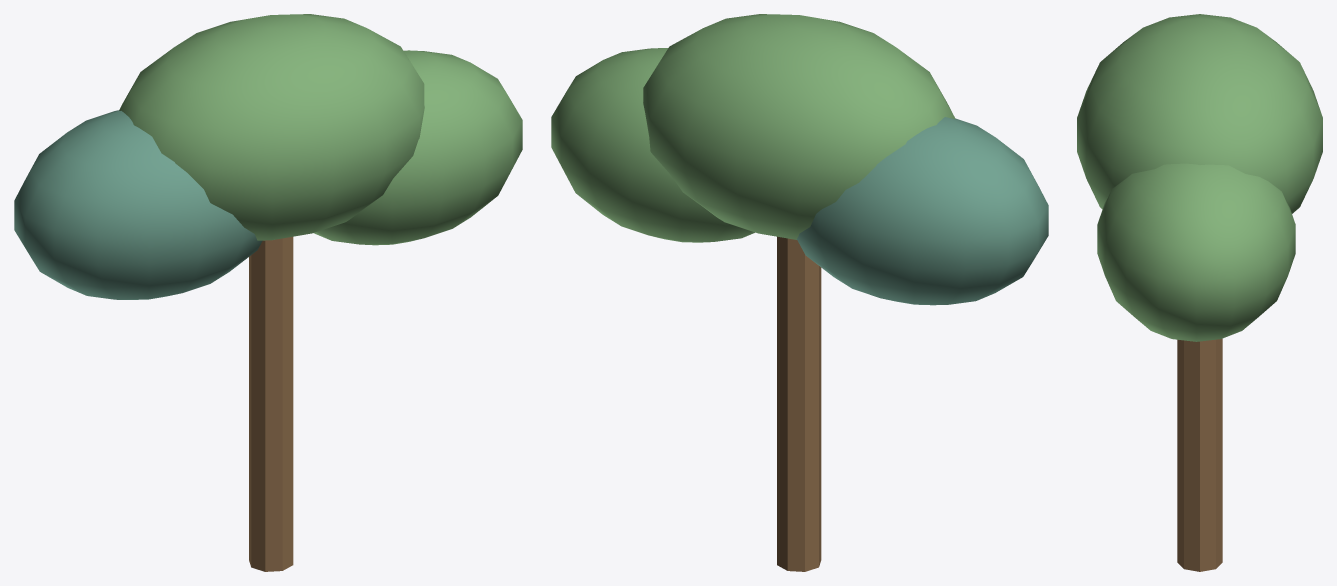
File: granular_round_tree.glb
The picture shows the model from 3 angles, left to right: view 1: azimuth 30°, elevation 25°; view 2: azimuth 150°, elevation 25°; view 3: azimuth 270°, elevation 25°; orthographic projection.
Visible parts, largest first — view 1: granular_round_tree_root; view 2: granular_round_tree_root; view 3: granular_round_tree_root.
Part boxes in pixels (x1,y1,x2,y2): granular_round_tree_root: (14, 14, 522, 571); granular_round_tree_root: (551, 14, 1048, 571); granular_round_tree_root: (1077, 14, 1322, 571).
Bounding box in the file's own units: 5.2 × 5.5 × 2.34.
